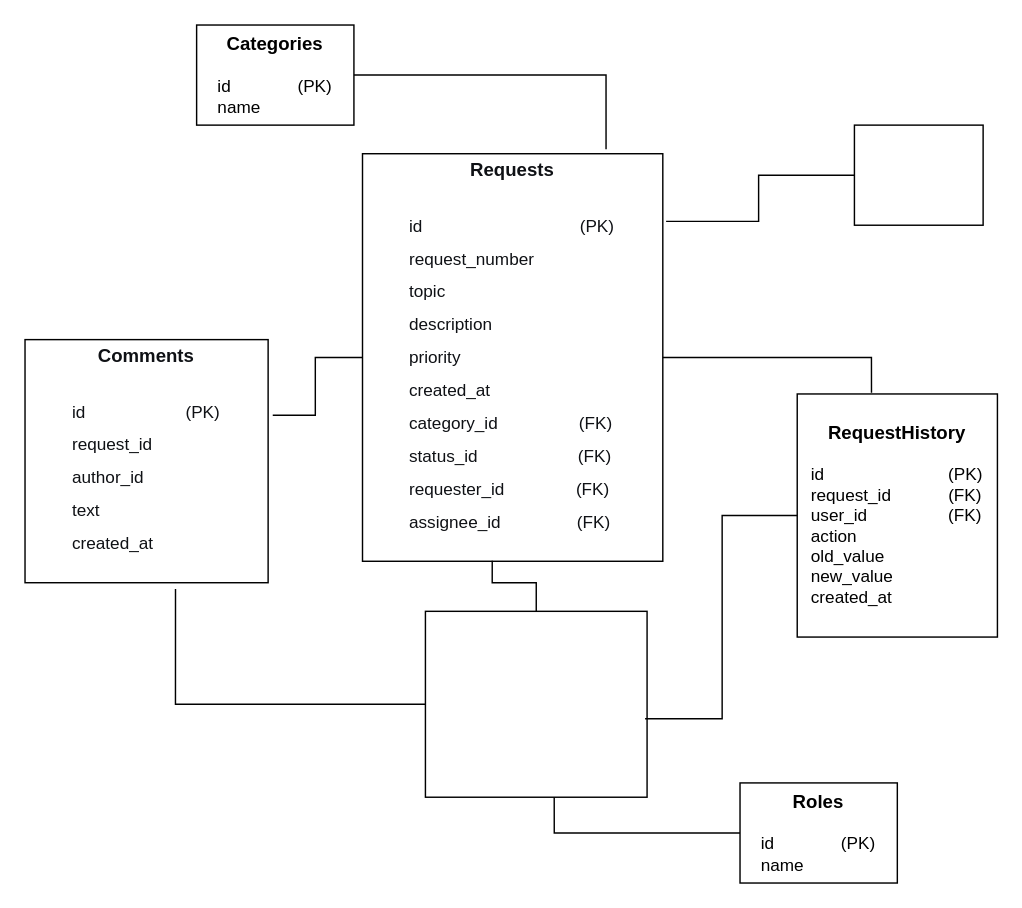
Some shapes in this 1022 by 908 pixel diagram are drawn without their labels. The centre of each missing label's shape, as x and y in pixels:
"Statuses id (PK) name" goes at point (918, 174).
"Users id (PK) full_name login password_hash email role_id (FK)" goes at point (535, 703).
